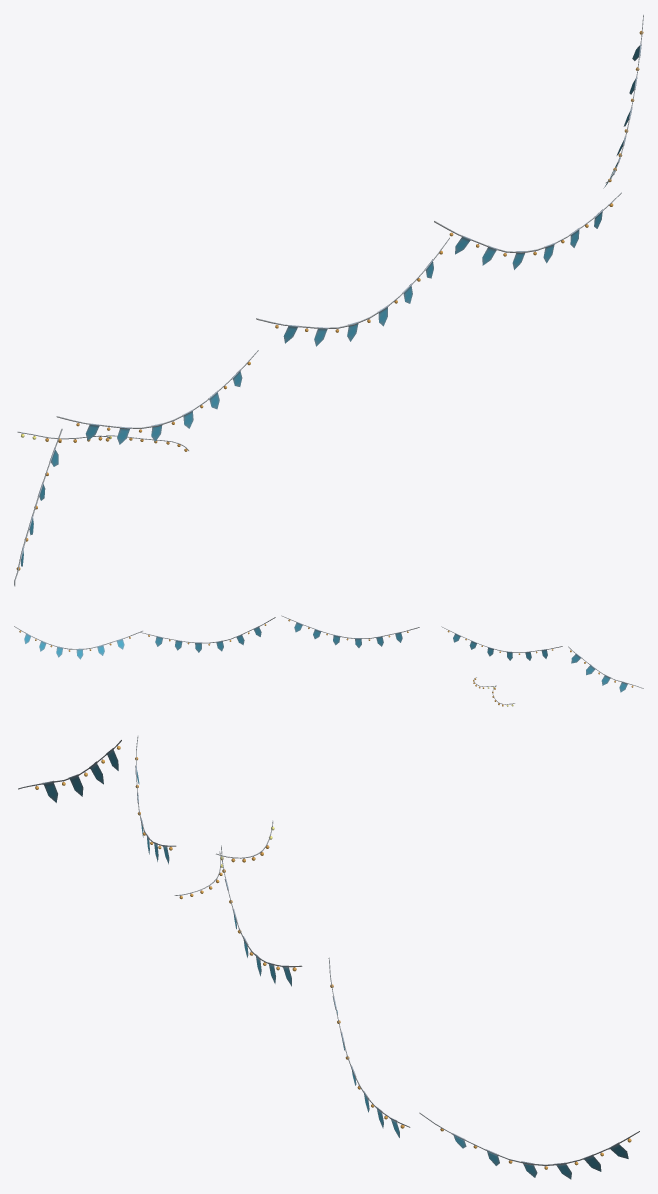
The model's file is pref_sm_beach_winter_lightflagL_lv3.fbx.
The picture shows the model from 3 angles, top to bottom: view 1: azimuth 30°, elevation 25°; view 2: azimuth 150°, elevation 25°; view 3: azimuth 270°, elevation 25°; orthographic projection. The views are drawn at different scales.
Parts seen in each view (by area): view 1: pref_sm_beach_winter_lightflagL_lv3; view 2: pref_sm_beach_winter_lightflagL_lv3; view 3: pref_sm_beach_winter_lightflagL_lv3.
Boxes of the visible parts, x1=… form: pref_sm_beach_winter_lightflagL_lv3: x1=14, y1=14, x2=643, y2=586; pref_sm_beach_winter_lightflagL_lv3: x1=14, y1=615, x2=643, y2=706; pref_sm_beach_winter_lightflagL_lv3: x1=18, y1=735, x2=639, y2=1179.
Size of the model in its own units: 57.29 by 7.04 by 32.51.
